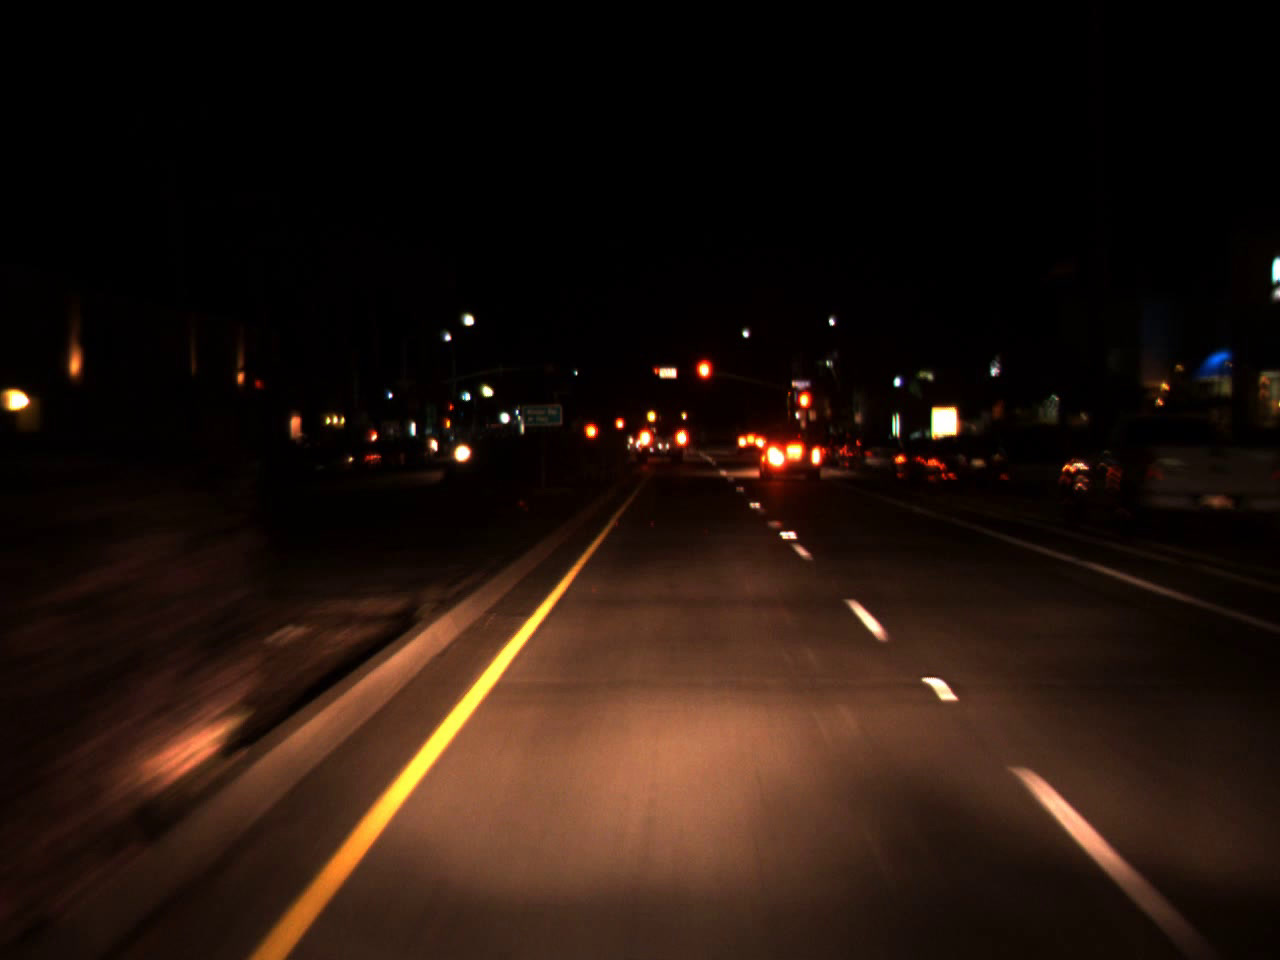stop: (693, 355, 715, 403), (794, 388, 813, 431), (653, 366, 660, 382), (449, 402, 455, 418)
